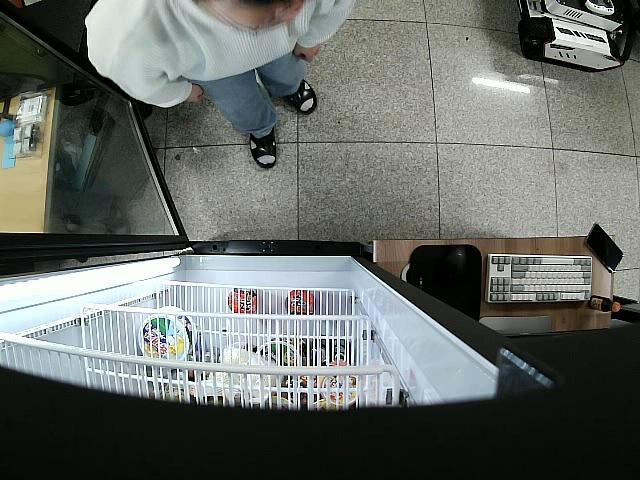00_hand: (290, 40, 325, 66), (183, 82, 207, 108)
